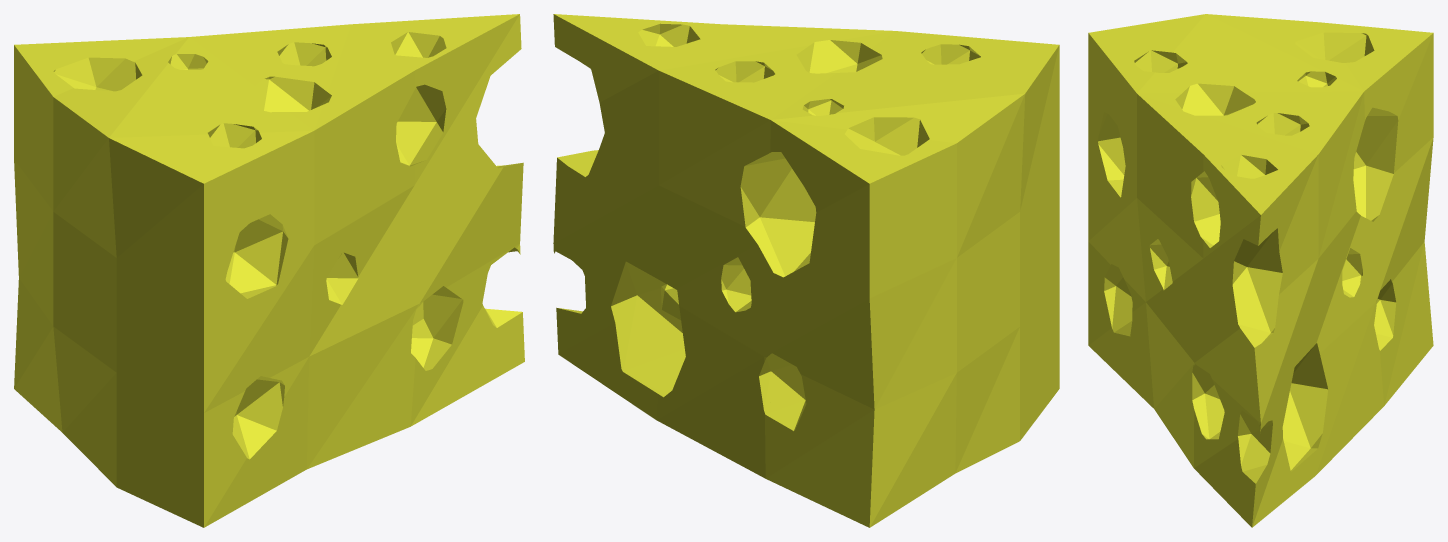
File: cheese_s.fbx
3 renders of one model, left to right at view 1: azimuth 30°, elevation 25°; view 2: azimuth 150°, elevation 25°; view 3: azimuth 270°, elevation 25°, orthographic. The views are drawn at different scales.
Parts seen in each view (by area): view 1: Cube.001, Cube.004, Cube.002, Cube, Cube.003; view 2: Cube.001, Cube.002, Cube.004, Cube, Cube.003; view 3: Cube.004, Cube.002, Cube, Cube.003, Cube.001.
Part boxes in pixels (left/top/right/bottom): Cube.001: left=14, top=42, right=236, bottom=527; Cube.004: left=64, top=37, right=309, bottom=510; Cube.002: left=181, top=29, right=377, bottom=471; Cube: left=290, top=21, right=449, bottom=440; Cube.003: left=400, top=14, right=524, bottom=405; Cube.001: left=837, top=41, right=1059, bottom=527; Cube.002: left=698, top=27, right=902, bottom=477; Cube.004: left=764, top=31, right=1012, bottom=512; Cube: left=629, top=21, right=787, bottom=442; Cube.003: left=553, top=14, right=673, bottom=402; Cube.004: left=1102, top=46, right=1417, bottom=406; Cube.002: left=1134, top=88, right=1383, bottom=448; Cube: left=1176, top=130, right=1341, bottom=488; Cube.003: left=1210, top=171, right=1302, bottom=527; Cube.001: left=1088, top=14, right=1433, bottom=364.
Bounding box in the file's own units: 268 × 208 × 200.
